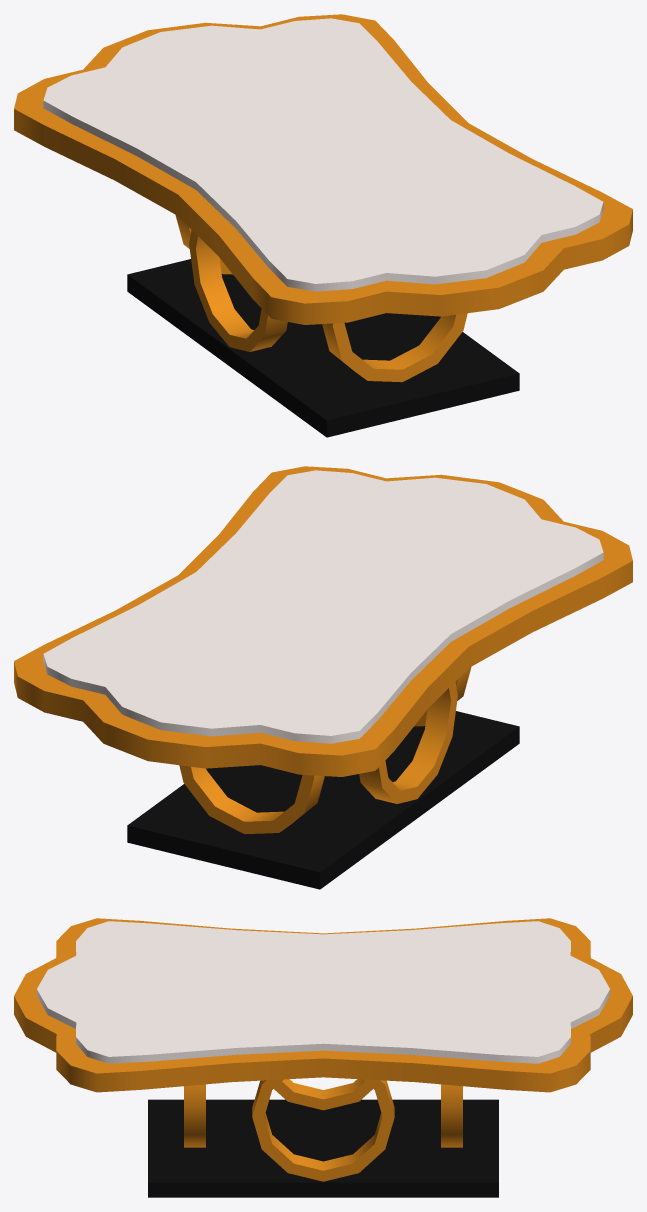
File: ban 4_01.FBX
3 views of the same model, one above another, from view 1: azimuth 30°, elevation 25°; view 2: azimuth 150°, elevation 25°; view 3: azimuth 270°, elevation 25° (orthographic). The views are drawn at different scales.
Visible parts, largest first — view 1: Object1206; view 2: Object1206; view 3: Object1206.
Part boxes in pixels (x1,y1,x2,y2): Object1206: [14, 14, 632, 437]; Object1206: [14, 466, 632, 889]; Object1206: [14, 918, 632, 1197].
Size of the model in its own units: 2.84 by 1.43 by 4.79.
